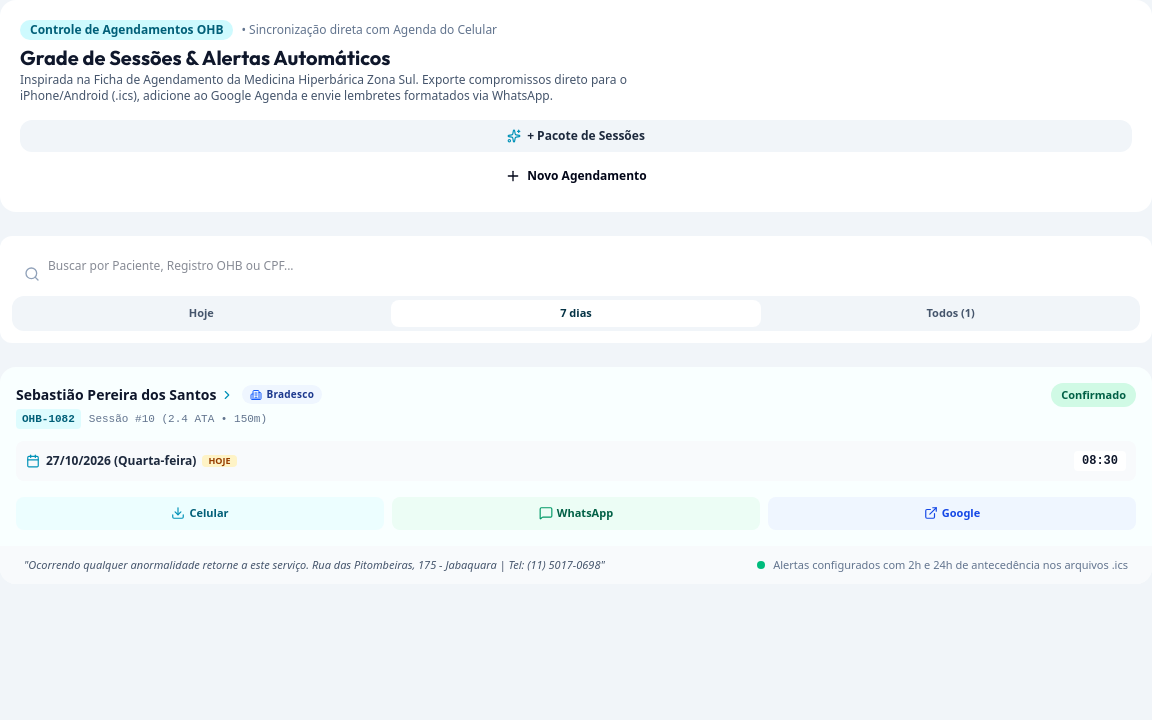
it: AppointmentManager Component › deve abrir modal de agendamento ao clicar em Novo Agendamento
Click the button "Novo Agendamento": (576, 176) [20,160,1132,192]
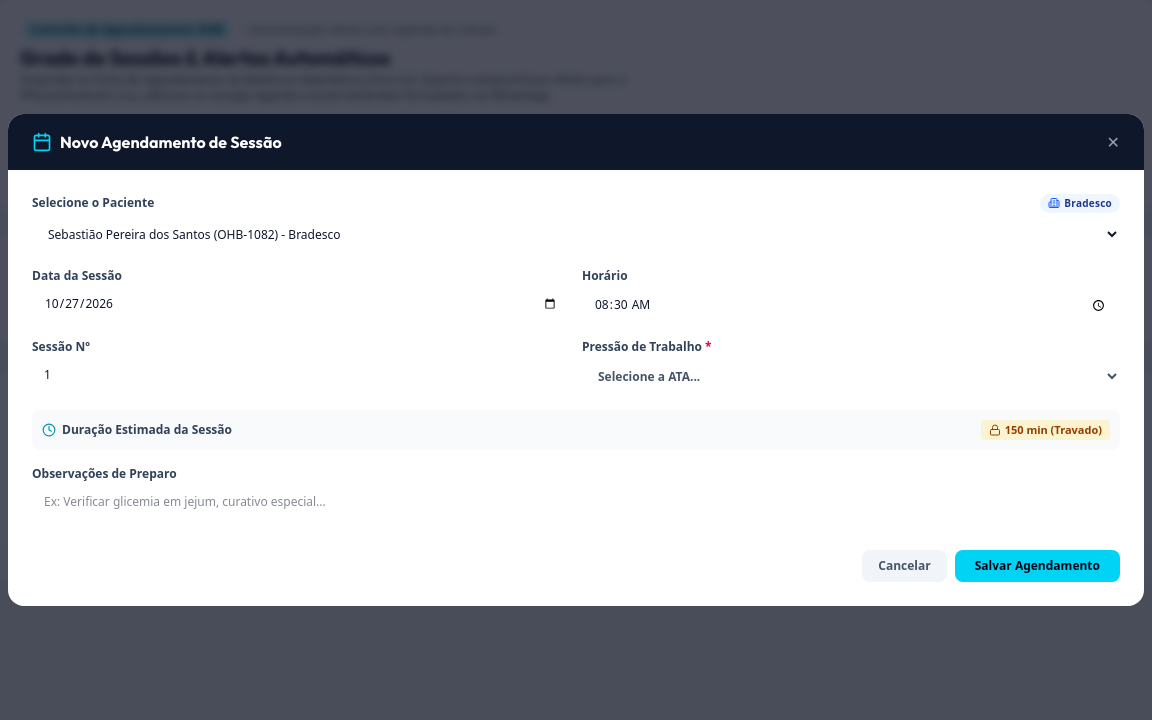
Check: the heading "Novo Agendamento de Sessão" is shown, box [60,130,282,154]
